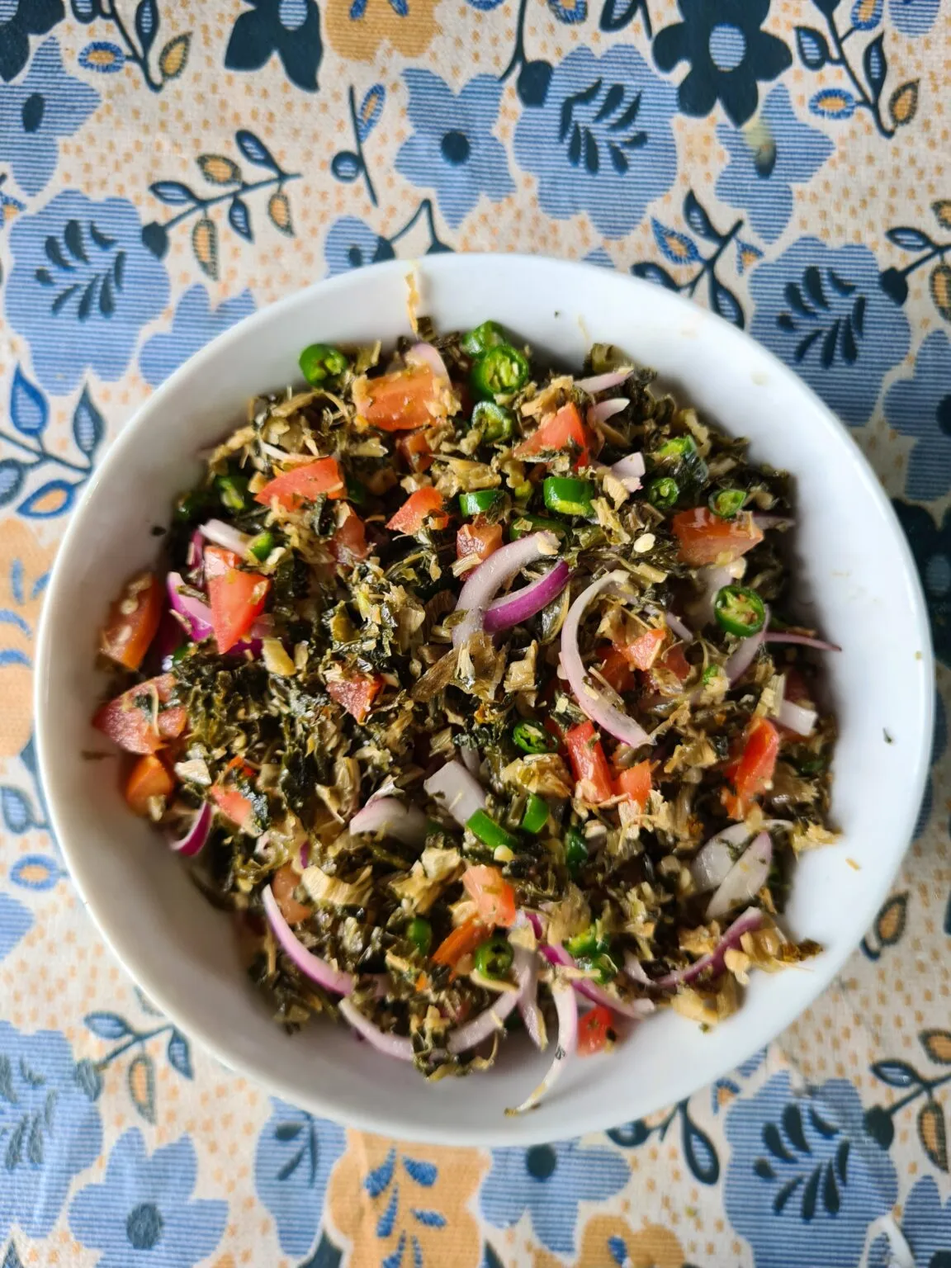gundruk: (204, 341, 770, 1043)
